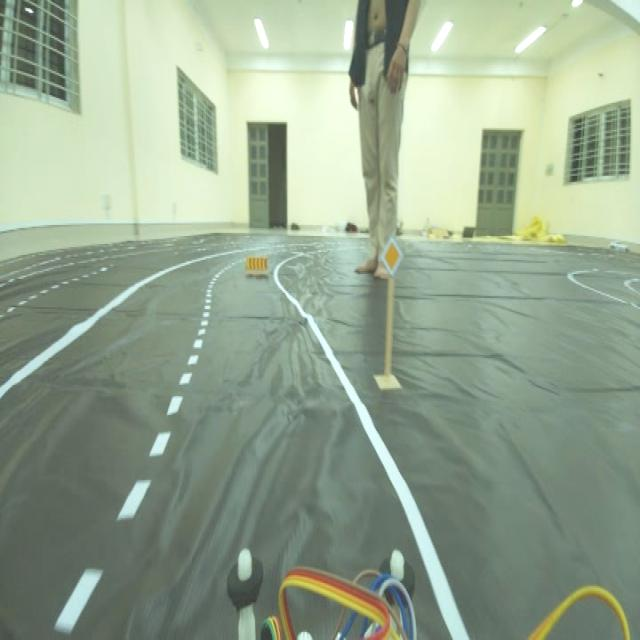priority: (382, 229, 407, 281)
roadblock: (242, 251, 272, 281)
